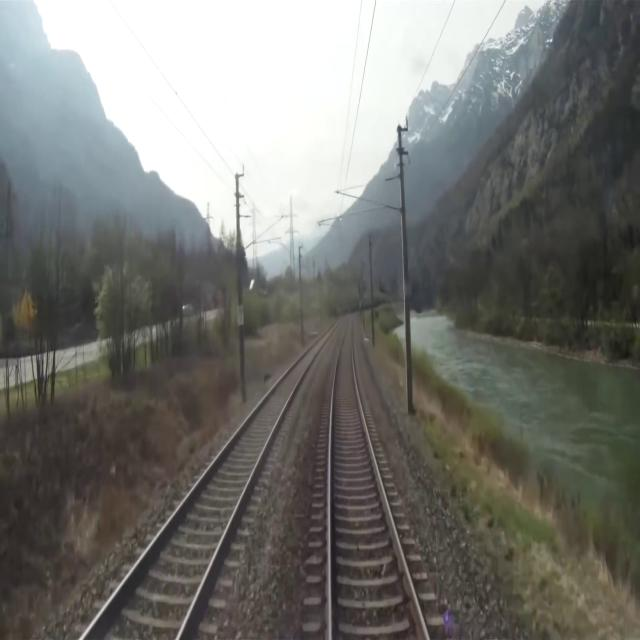rail-track: (84, 331, 329, 639), (332, 315, 426, 639)
